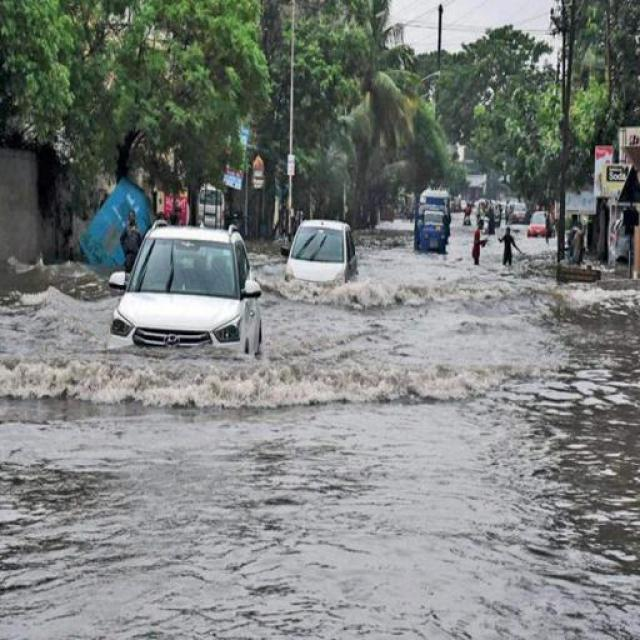puddle: (11, 368, 640, 640), (282, 290, 640, 493), (10, 267, 115, 428), (377, 254, 551, 345)
